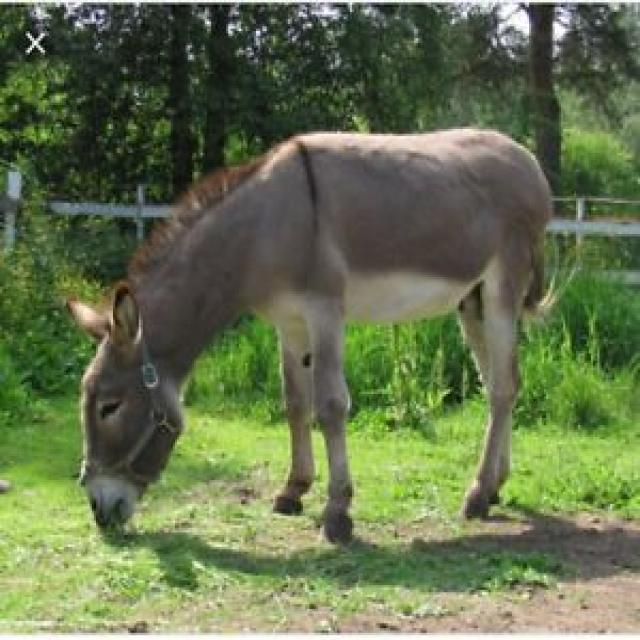Donkey: (68, 126, 552, 536)
